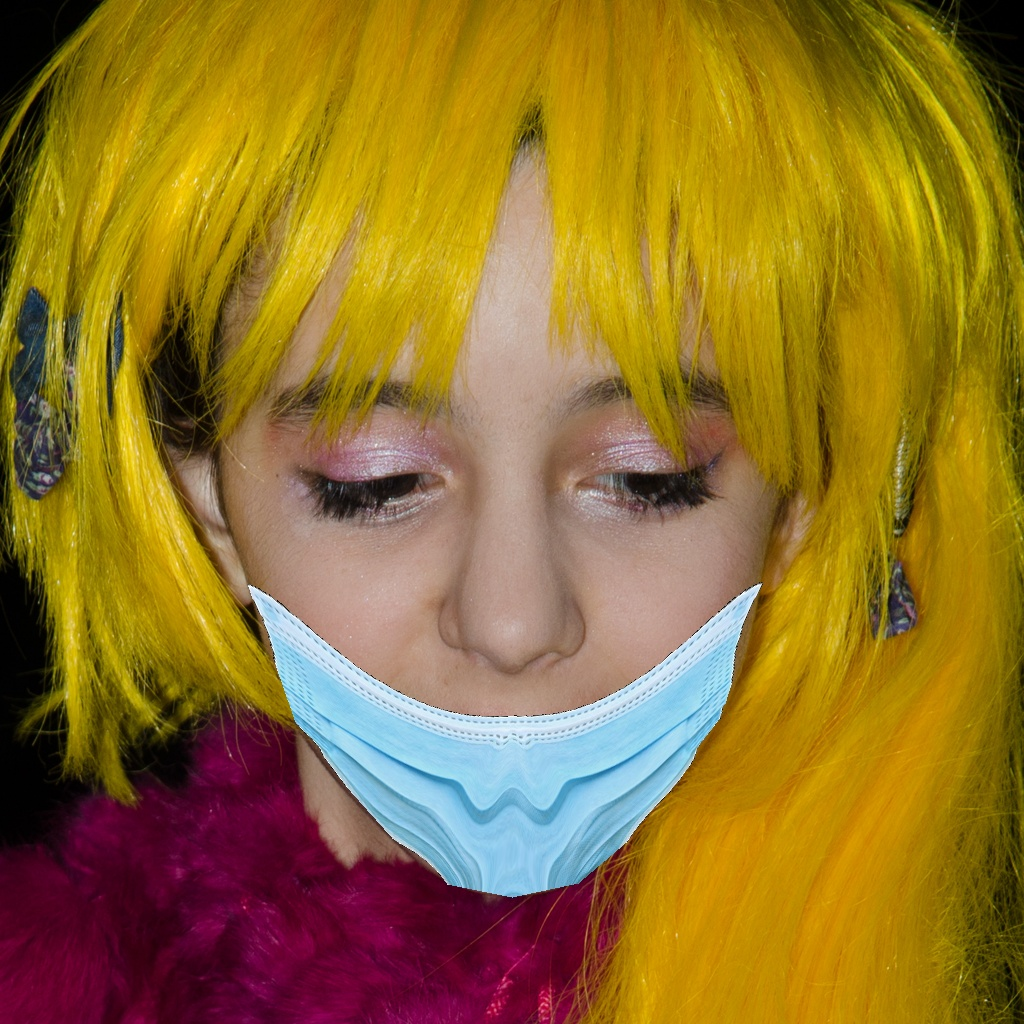mask_weared_incorrect: (204, 312, 807, 910)
